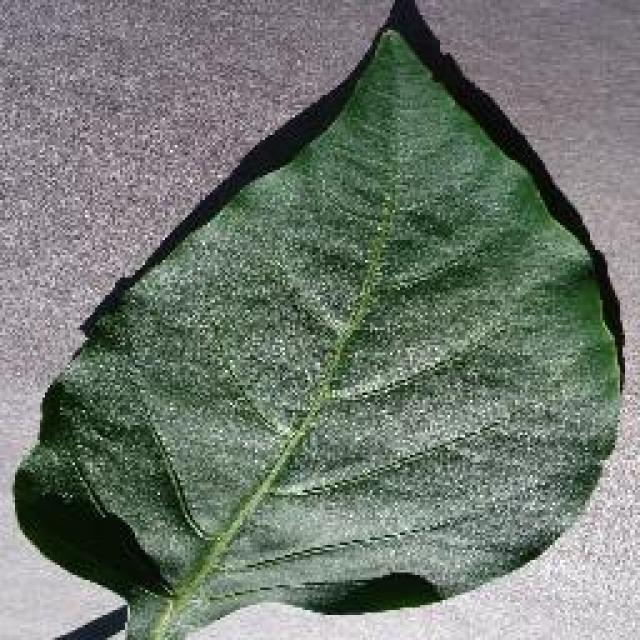Chilli_Healthy: (10, 0, 625, 638)
